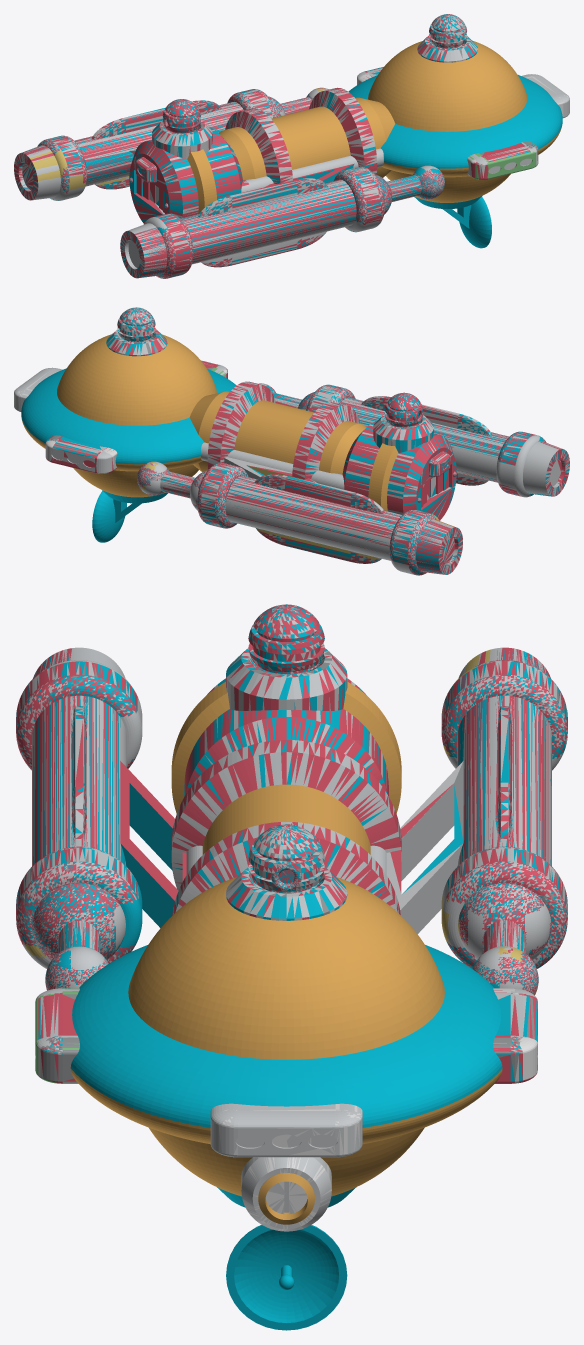
File: Earth Destroyer v2.1 Bundle Group.glb
The picture shows the model from 3 angles, top to bottom: view 1: azimuth 30°, elevation 25°; view 2: azimuth 150°, elevation 25°; view 3: azimuth 270°, elevation 25°; orthographic projection. The views are drawn at different scales.
Visible parts, largest first — view 1: Mesh_Mesh_head_geo.001_lambert2SG.001; view 2: Mesh_Mesh_head_geo.001_lambert2SG.001; view 3: Mesh_Mesh_head_geo.001_lambert2SG.001.
Boxes of the visible parts, x1,y1,x2,y2 form: Mesh_Mesh_head_geo.001_lambert2SG.001: (14,14,569,278); Mesh_Mesh_head_geo.001_lambert2SG.001: (14,307,569,575); Mesh_Mesh_head_geo.001_lambert2SG.001: (16,604,567,1330).
Bounding box in the file's own units: 99.6 × 47.5 × 50.06.
